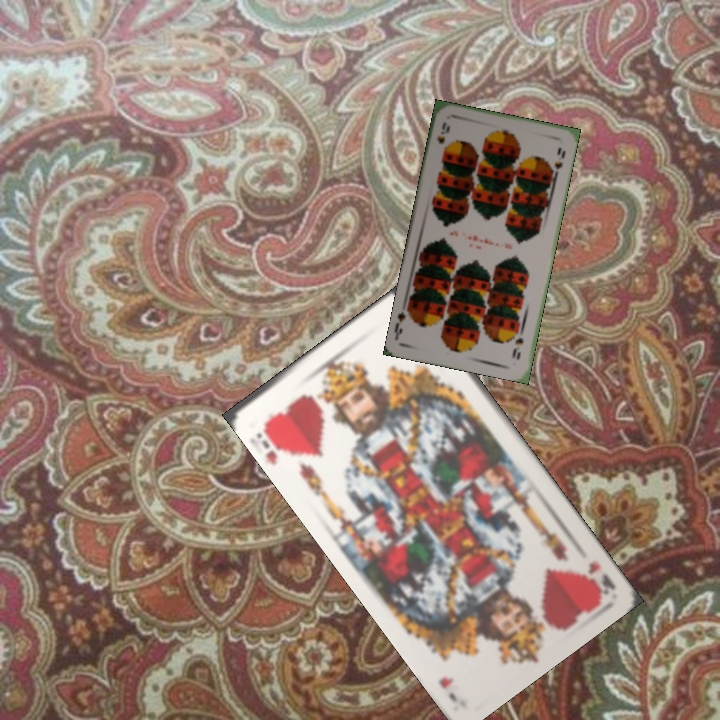HK: (252, 417, 295, 460), (579, 557, 618, 599)
S9: (432, 118, 452, 146), (509, 334, 526, 362)
